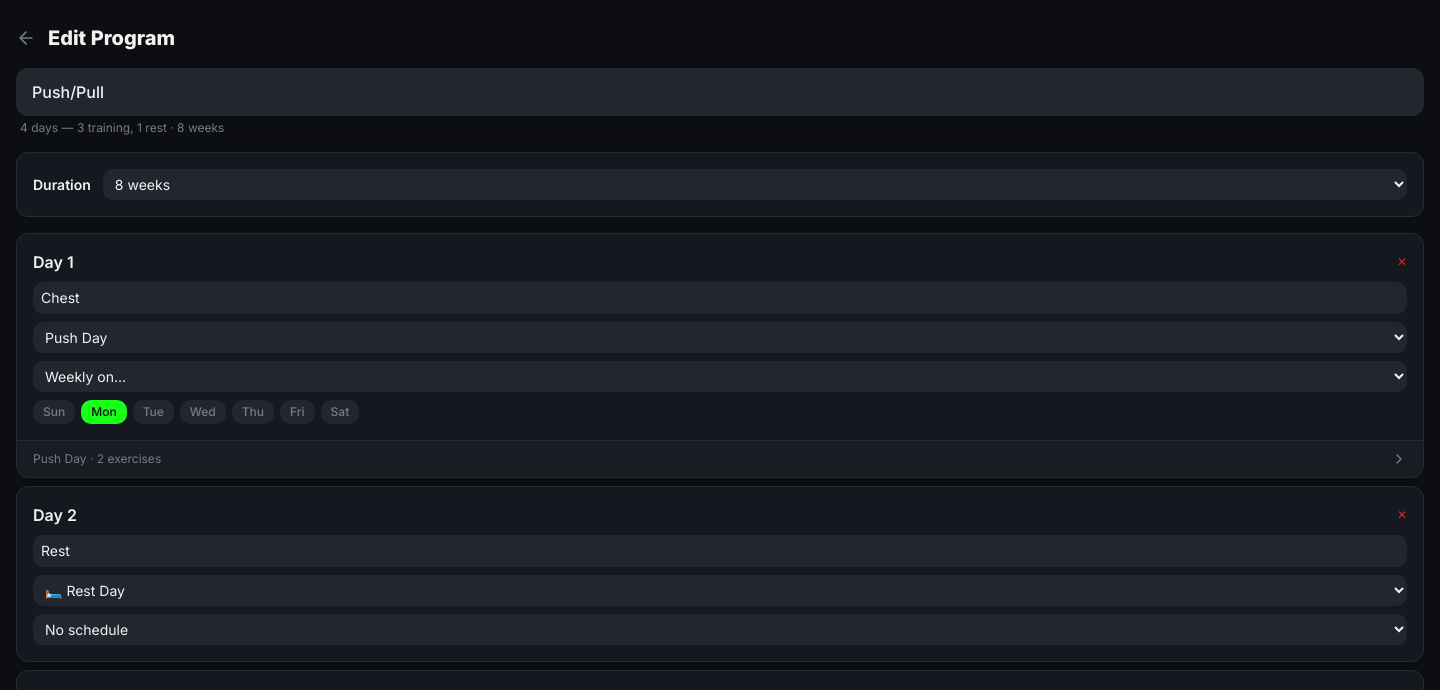
it: editing a template inside its tile › saves a set count changed from the tile, with the row typed once behind every set
Later steps or results of the test are not shown.
Click the button "Push Day · 2 exercises".
click(60, 458)  # box top-left (17, 440), bottom-right (1423, 477)
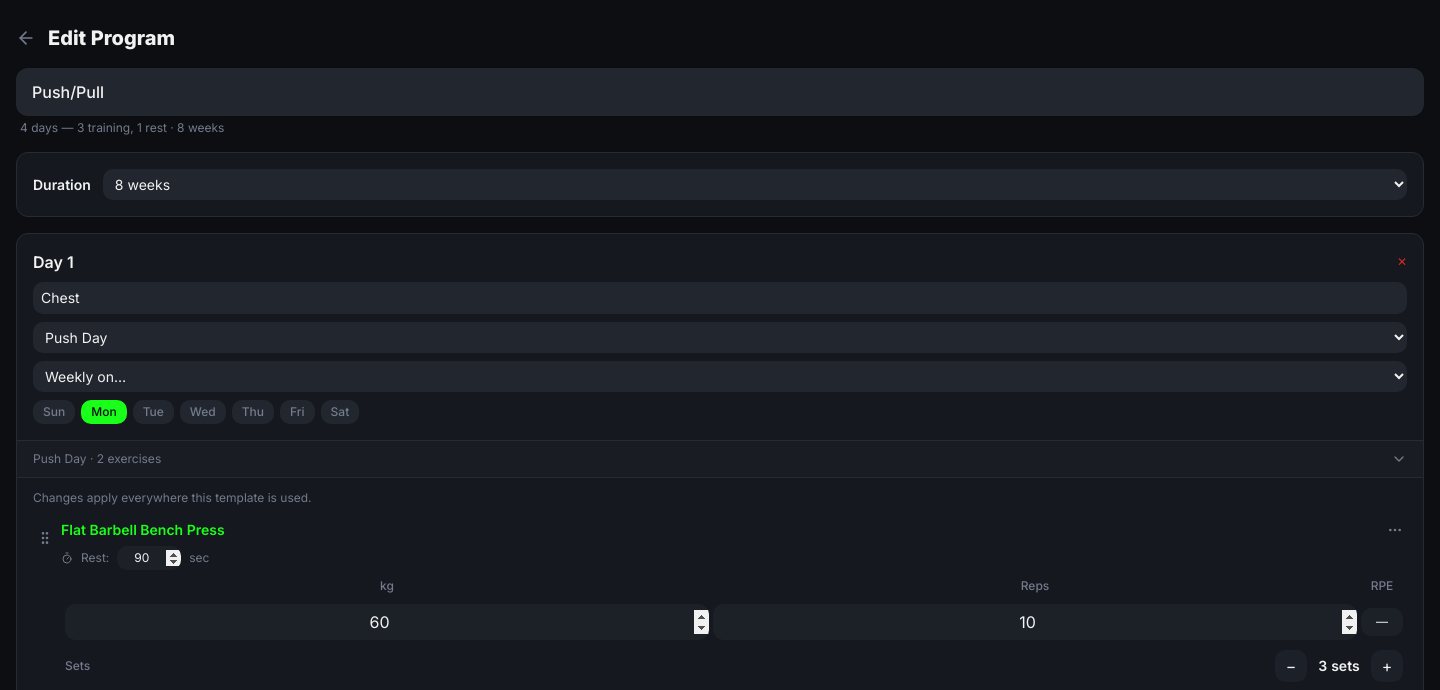
Replace the text in the 3rd number field with placeholder "—" with "8" at [1035, 622], box top-left (713, 604), bottom-right (1357, 640)
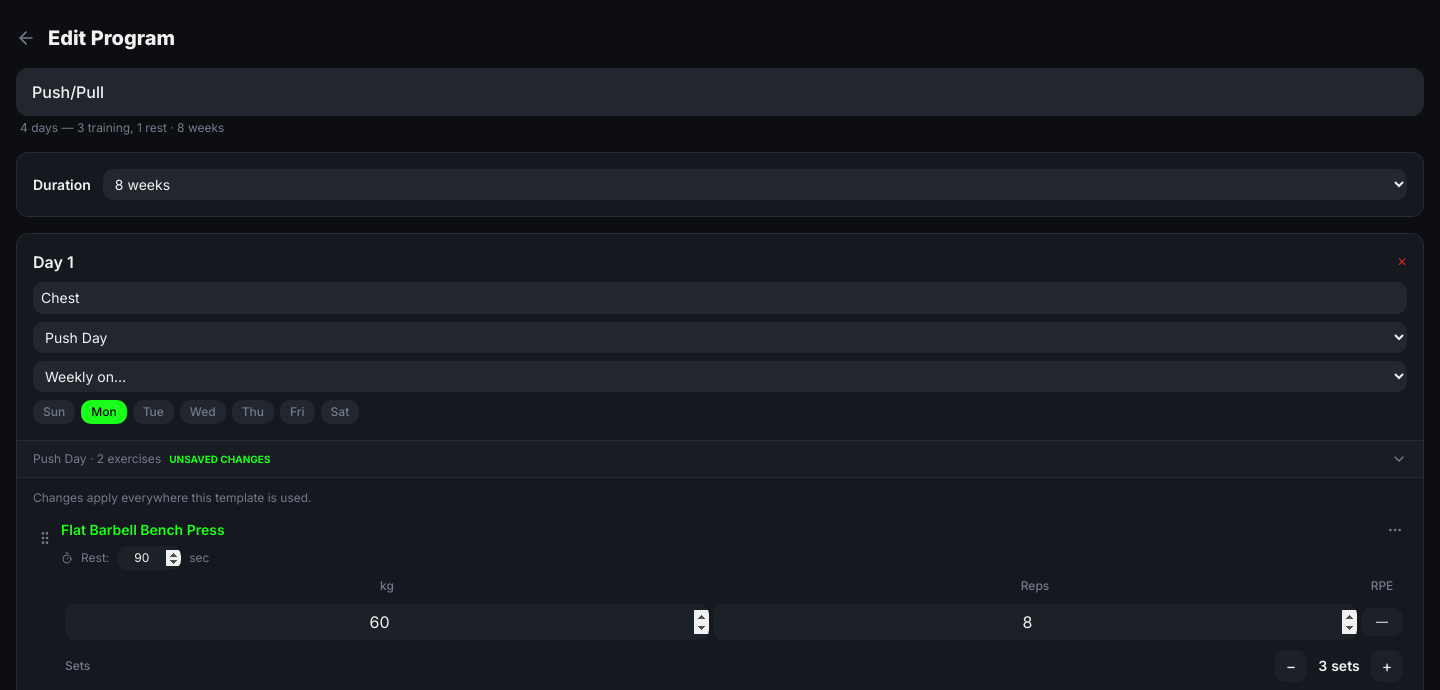
Click the button named "Add a set to Flat Barbell Bench Press".
click(1387, 666)  # box top-left (1371, 650), bottom-right (1403, 682)
(page scrolled)
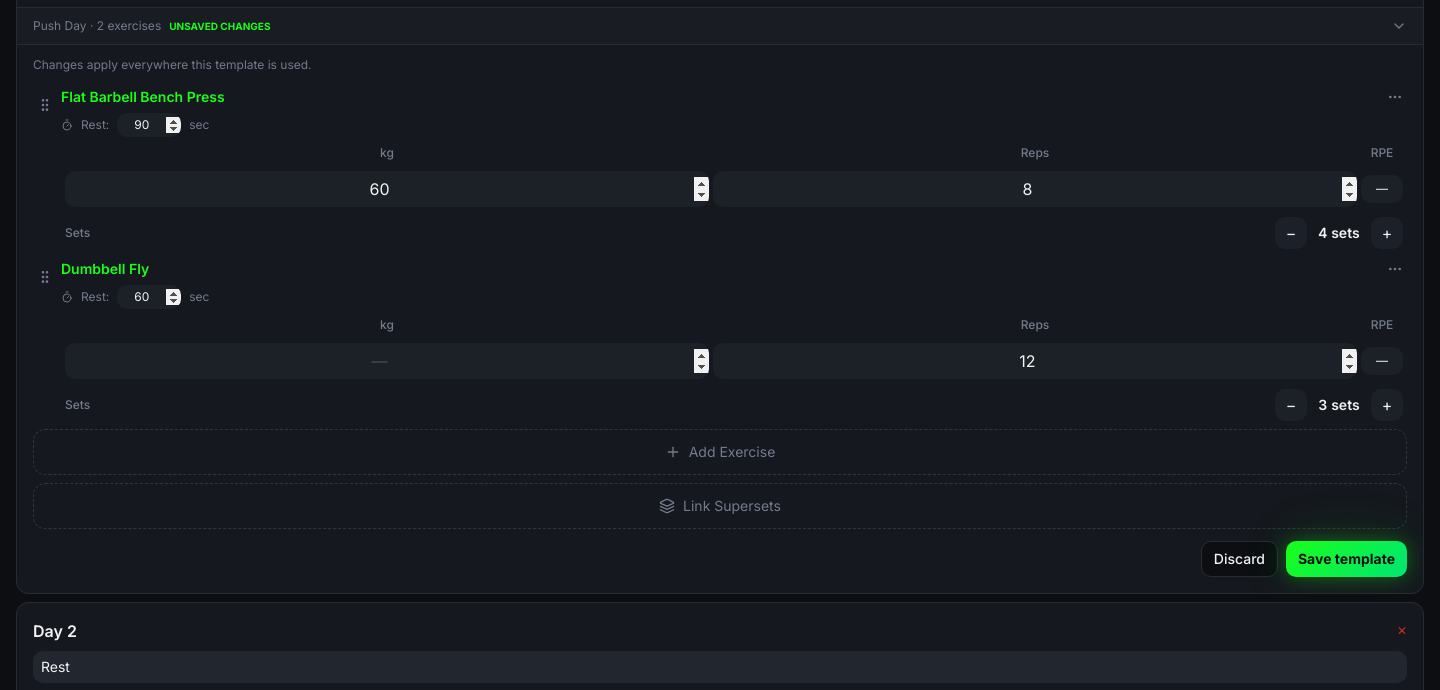
expect the text with test id "set-count" reads "4 sets": met, box top-left (1318, 224), bottom-right (1360, 241)
Click the button named "Remove a set from Dumbbell Fly".
click(1291, 405)  # box top-left (1275, 389), bottom-right (1307, 421)
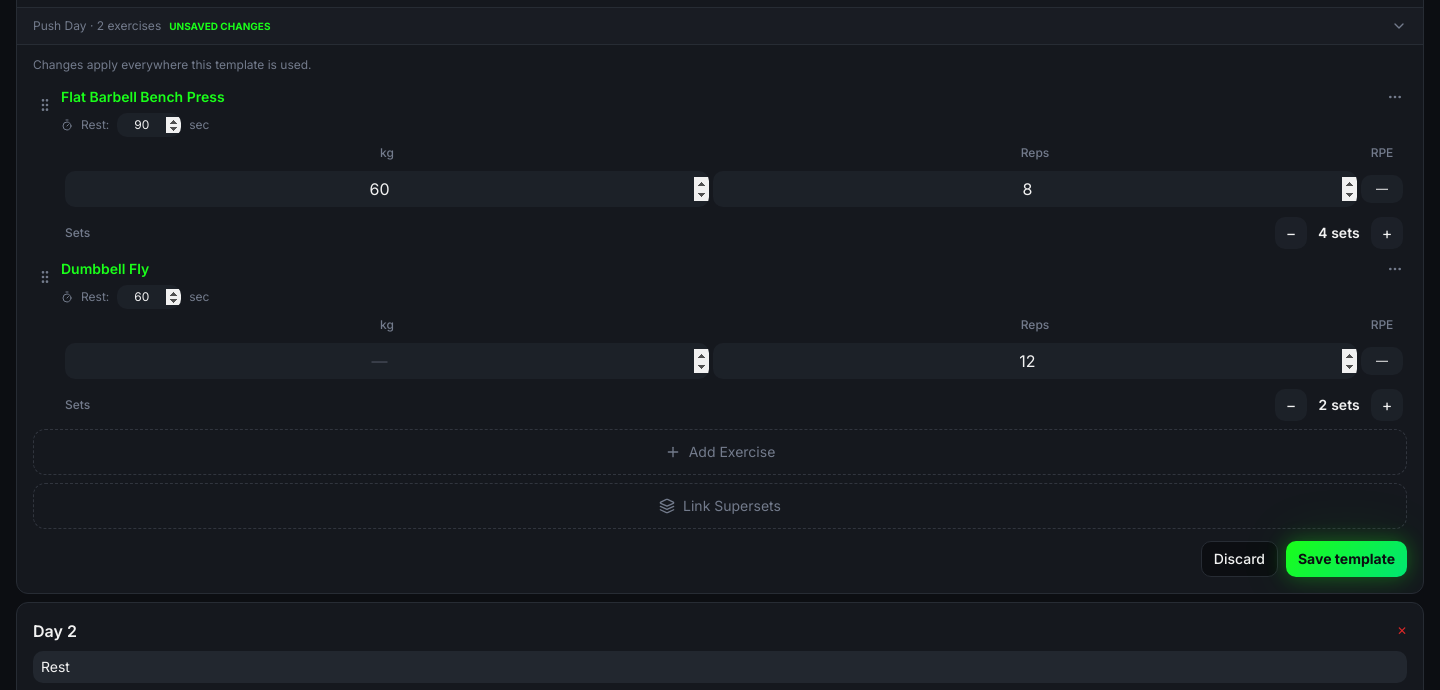
expect the text with test id "set-count" reads "2 sets": met, box top-left (1318, 396), bottom-right (1360, 413)
